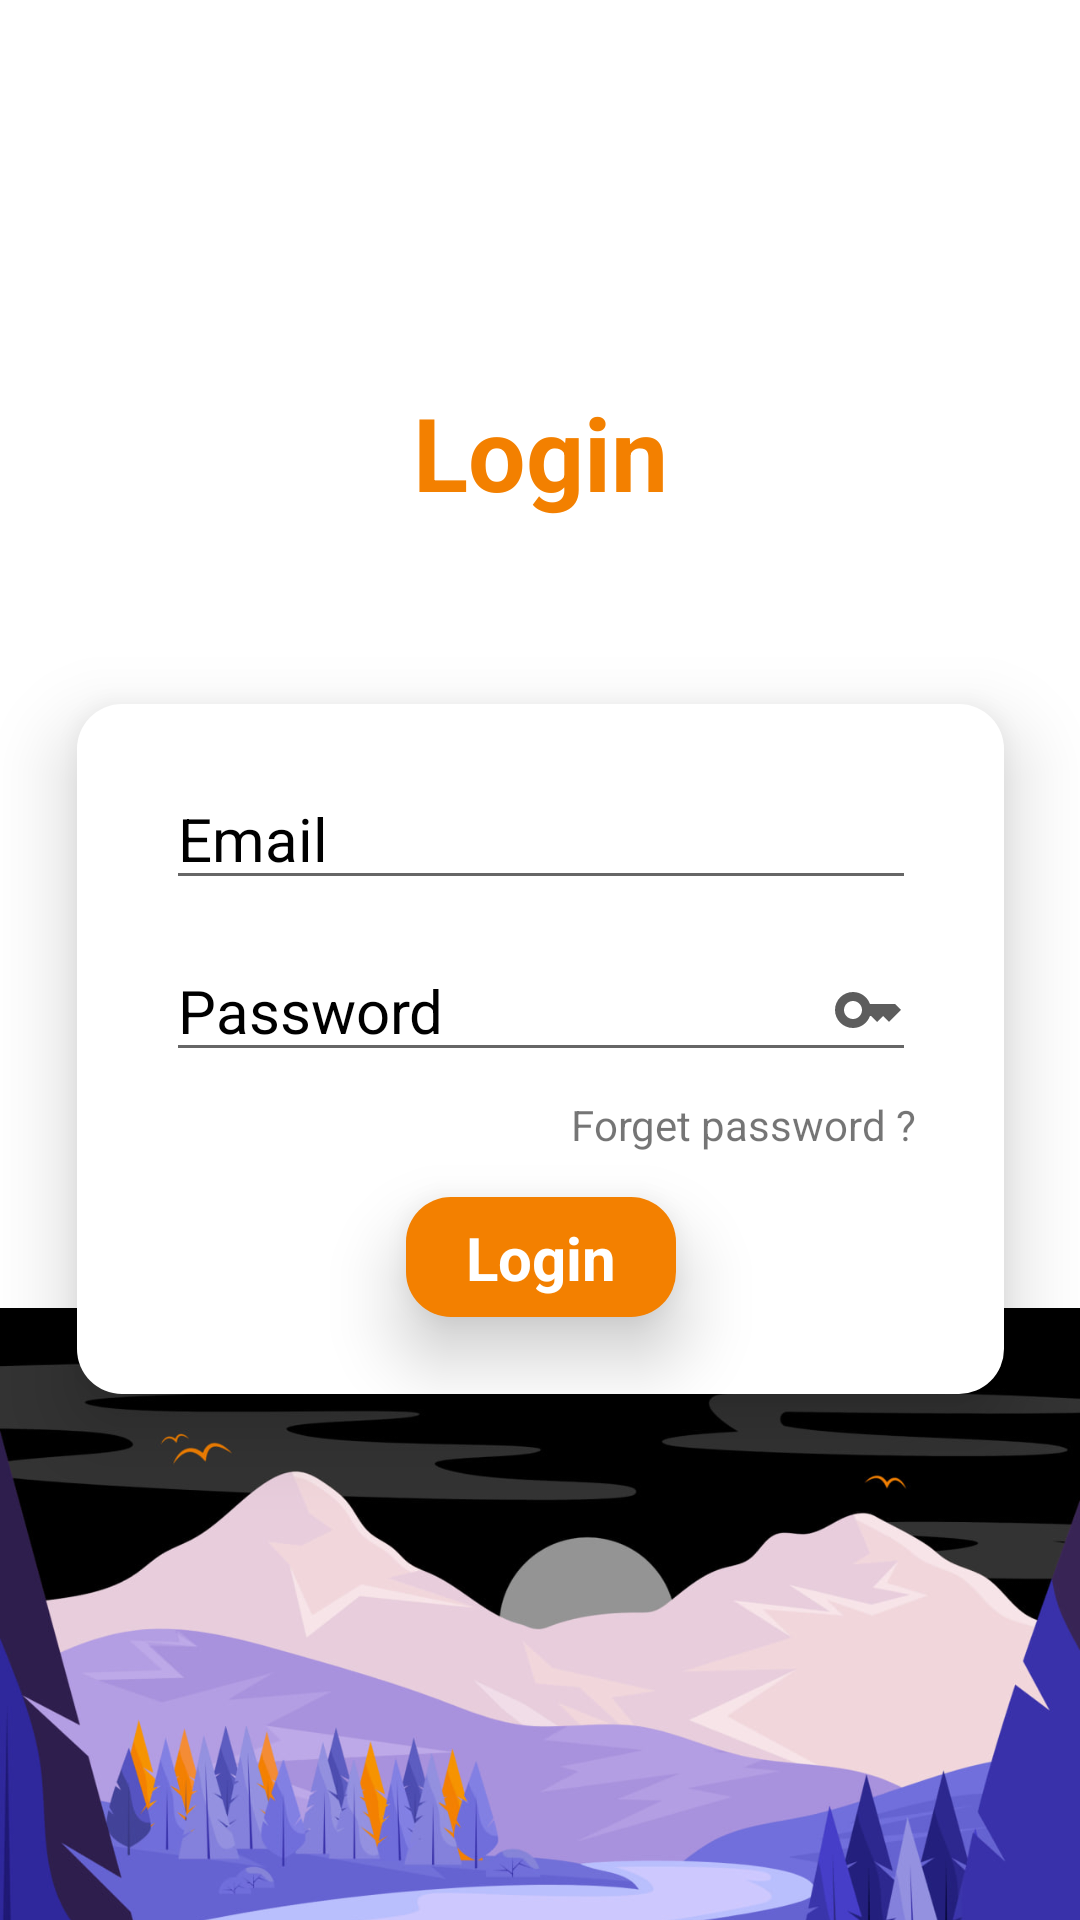

Icons on this 1080px×1920px Android screen, each with its box as box(x1, y1, x2, y2):
key: box(835, 992, 901, 1028)
